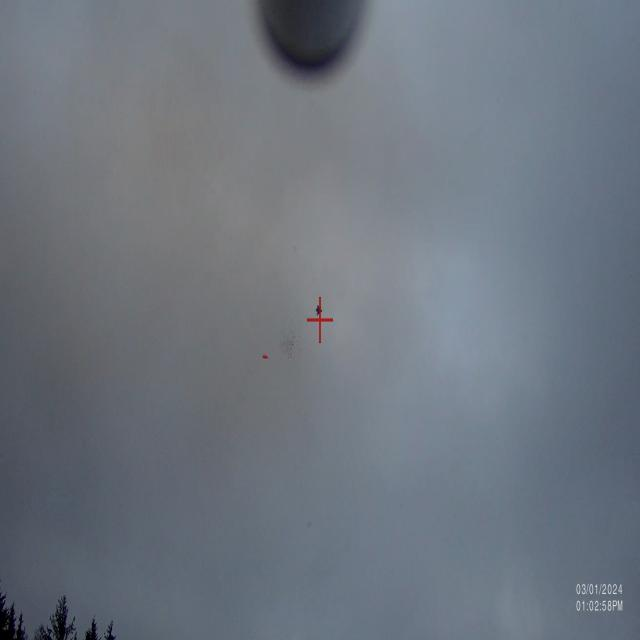entire: (258, 349, 270, 363)
